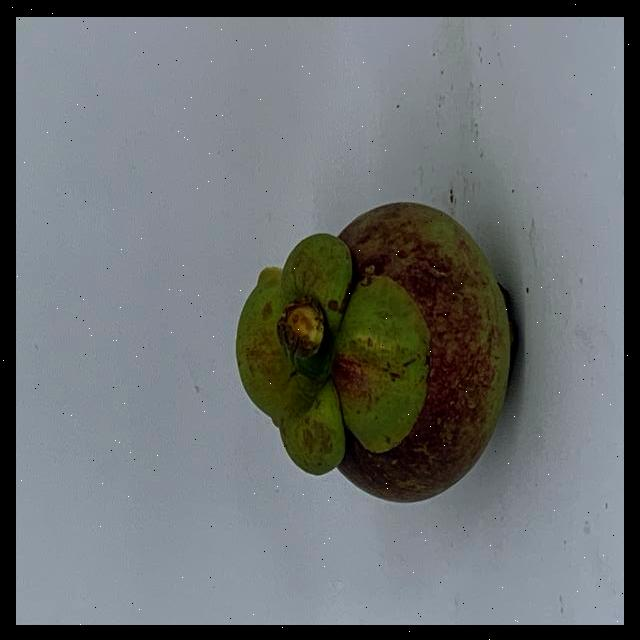mangosteen: (240, 175, 512, 510)
